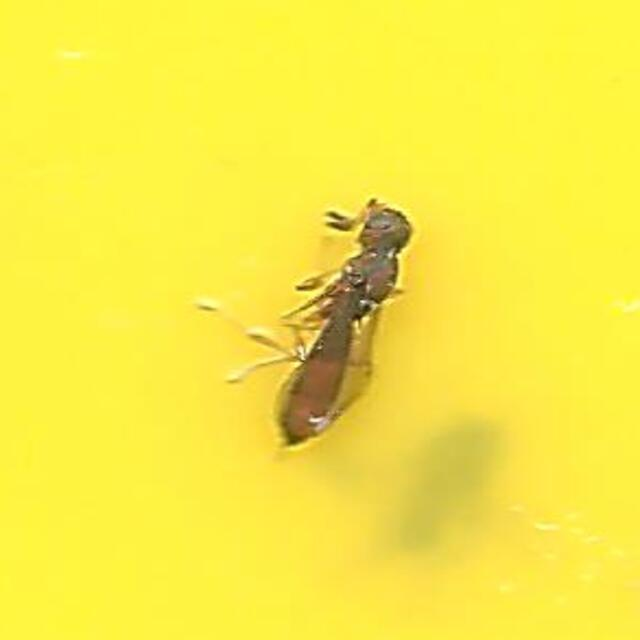Hymenoptera: (218, 187, 422, 453)
